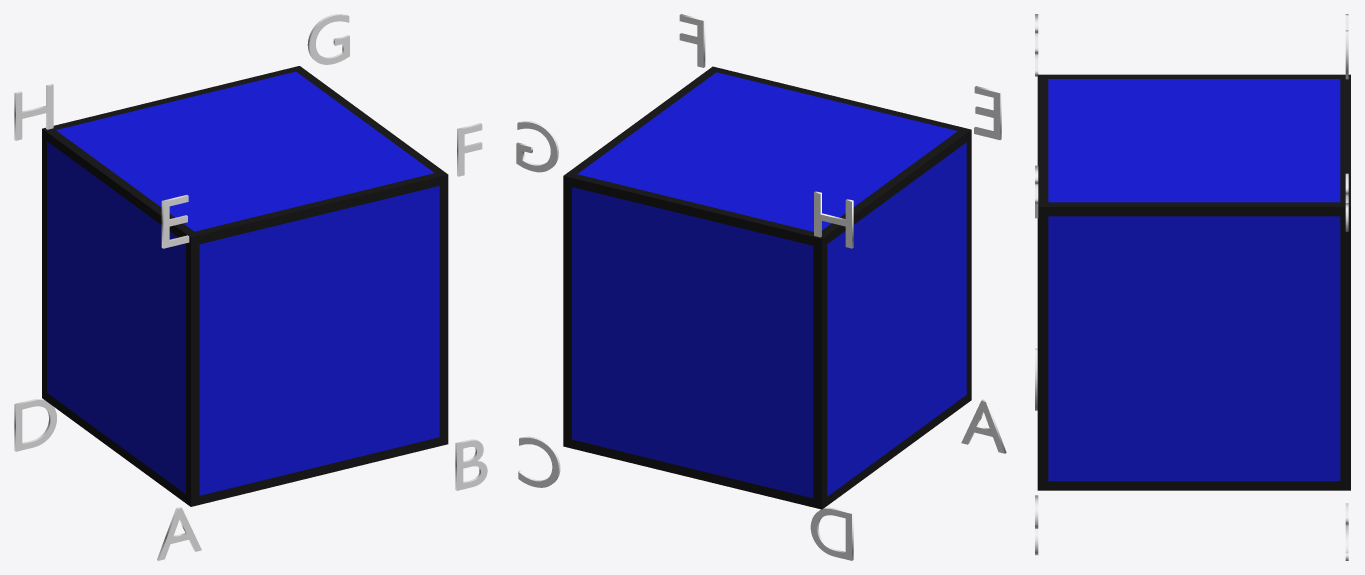
File: Kubus.fbx
3 views of the same model, side by side, from view 1: azimuth 30°, elevation 25°; view 2: azimuth 150°, elevation 25°; view 3: azimuth 270°, elevation 25° (orthographic). The views are drawn at different scales.
Parts seen in each view (by area): view 1: Cube.003, Text.033, Text.034, Text.028, Text.029, Text.031, Text.035, Text.030; view 2: Cube.003, Text.033, Text.028, Text.029, Text.035, Text.031, Text.032, Text.030; view 3: Cube.003.
Part boxes in pixels (box(x1,y1,x2,y2)): Cube.003: box(42, 66, 448, 506); Text.033: box(14, 399, 56, 451); Text.034: box(455, 439, 487, 490); Text.028: box(307, 14, 349, 64); Text.029: box(14, 84, 53, 140); Text.031: box(161, 195, 189, 248); Text.035: box(157, 507, 201, 560); Text.030: box(457, 123, 482, 176); Cube.003: box(563, 66, 971, 509); Text.033: box(810, 507, 853, 560); Text.028: box(516, 121, 558, 172); Text.029: box(814, 191, 853, 248); Text.035: box(961, 399, 1006, 453); Text.031: box(974, 86, 1001, 139); Text.032: box(518, 436, 560, 487); Text.030: box(679, 14, 705, 67); Cube.003: box(1037, 74, 1350, 490).
Size of the model in its own units: 263 by 268 by 202.
